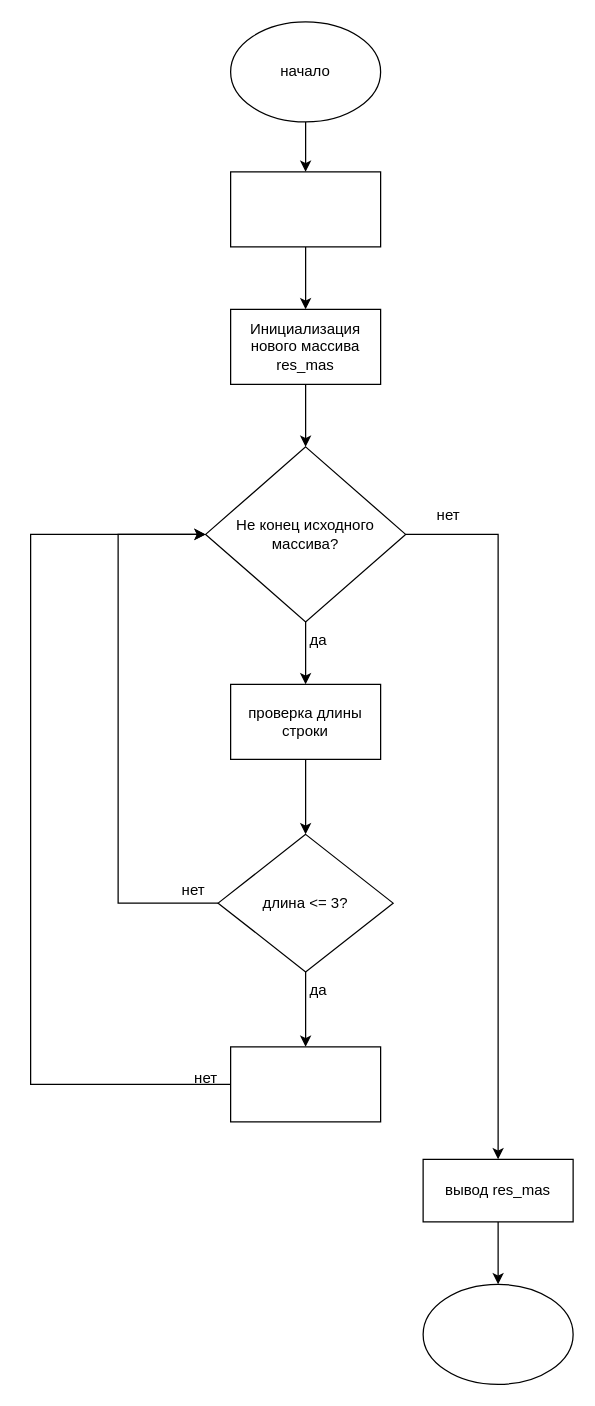
This 595x1406 diagram has some shape labels left out. Each missing label, with the centre of its shape:
Ввод массива строк: the point at 305,209
добавить в массив res_mas: the point at 305,1084
конец: the point at 497,1333
